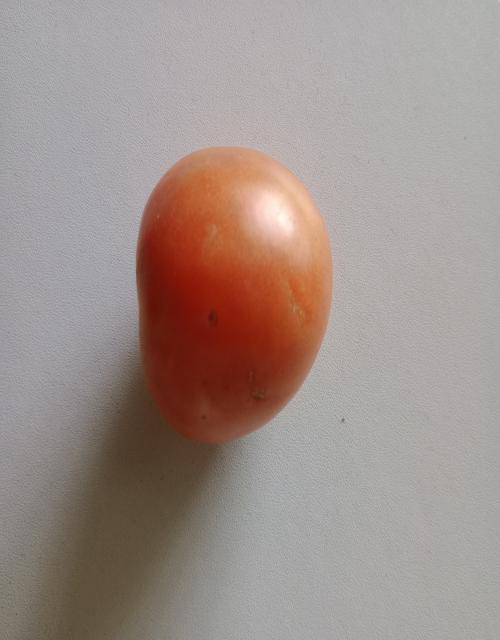Tomate: (93, 118, 386, 512)
